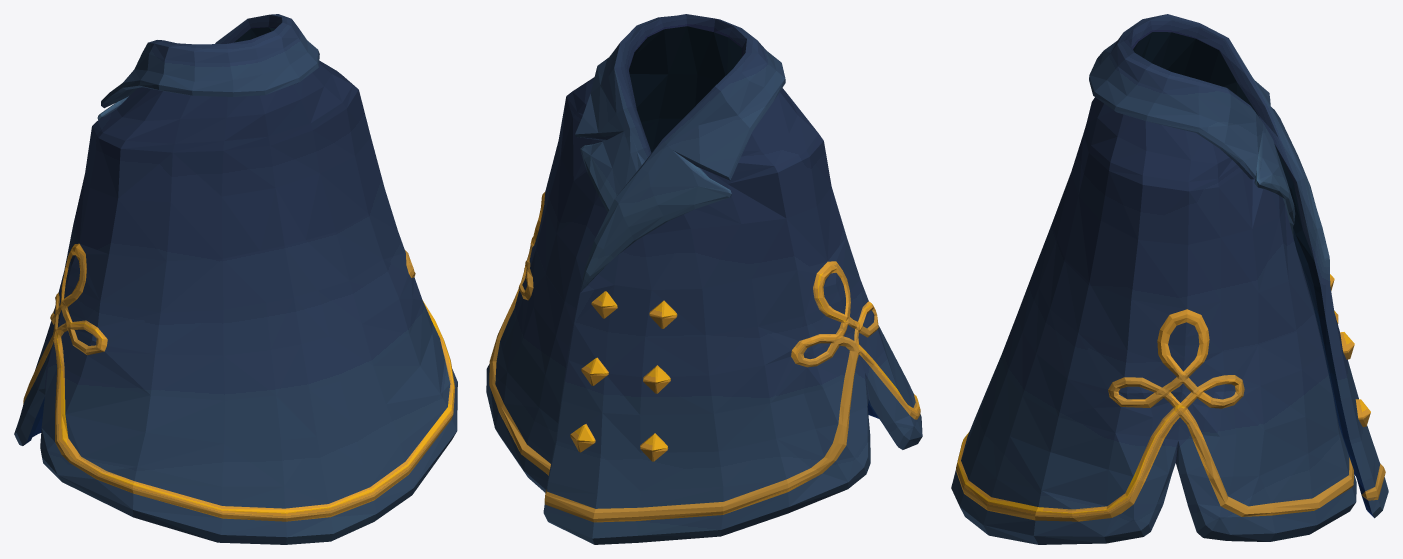
File: CharSkyKid_Wing_AP31Postman.glb
The picture shows the model from 3 angles, left to right: view 1: azimuth 30°, elevation 25°; view 2: azimuth 150°, elevation 25°; view 3: azimuth 270°, elevation 25°; orthographic projection. The views are drawn at different scales.
Visible parts, largest first — view 1: CharSkyKid_Wing_AP31Postman; view 2: CharSkyKid_Wing_AP31Postman; view 3: CharSkyKid_Wing_AP31Postman.
Part boxes in pixels (box(x1,y1,x2,y2)): CharSkyKid_Wing_AP31Postman: box(14, 14, 457, 544); CharSkyKid_Wing_AP31Postman: box(486, 14, 922, 544); CharSkyKid_Wing_AP31Postman: box(951, 14, 1388, 544).
Bounding box in the file's own units: 6.58 × 6.93 × 5.95.
Materials: 1 (1 with a texture image).
